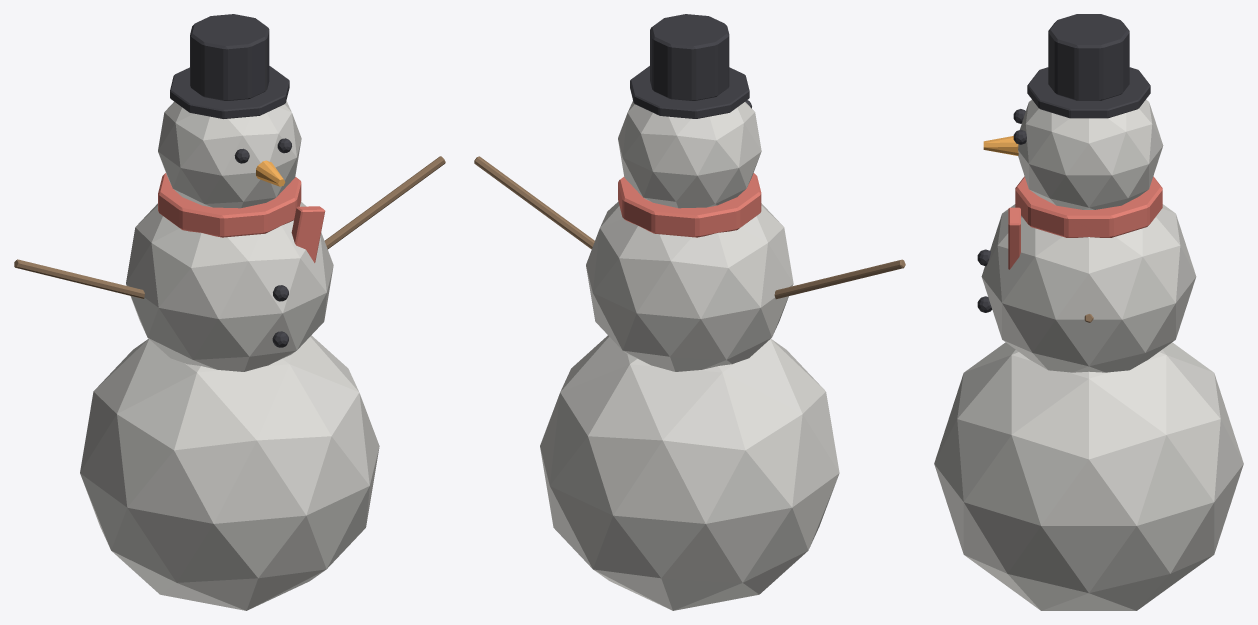
The picture shows the model from 3 angles, left to right: view 1: azimuth 30°, elevation 25°; view 2: azimuth 150°, elevation 25°; view 3: azimuth 270°, elevation 25°; orthographic projection.
Parts seen in each view (by area): view 1: BigSnowman; view 2: BigSnowman; view 3: BigSnowman.
Boxes of the visible parts, <box> form: BigSnowman: <box>14,14,445,610</box>; BigSnowman: <box>474,14,905,610</box>; BigSnowman: <box>934,14,1243,610</box>.
Bounding box in the file's own units: 2.43 × 3.07 × 1.5.
